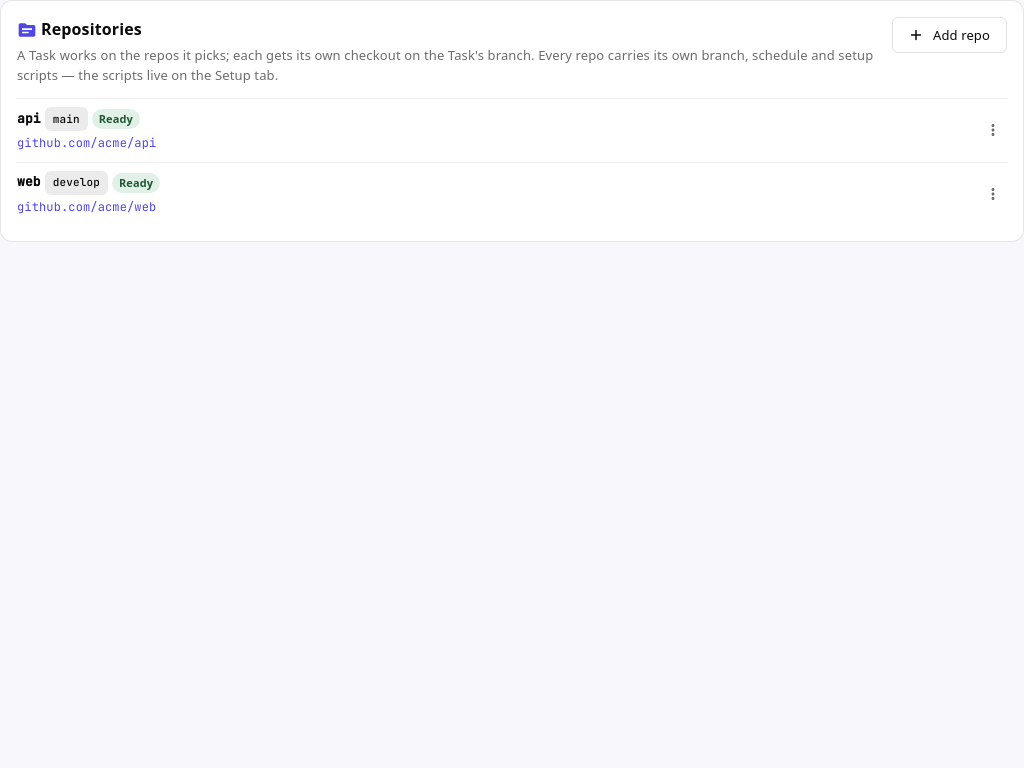
Test: ProjectReposCard › removes a repo after confirming
Click the button named "Actions for web" at [993, 194], box [979,180,1007,208]
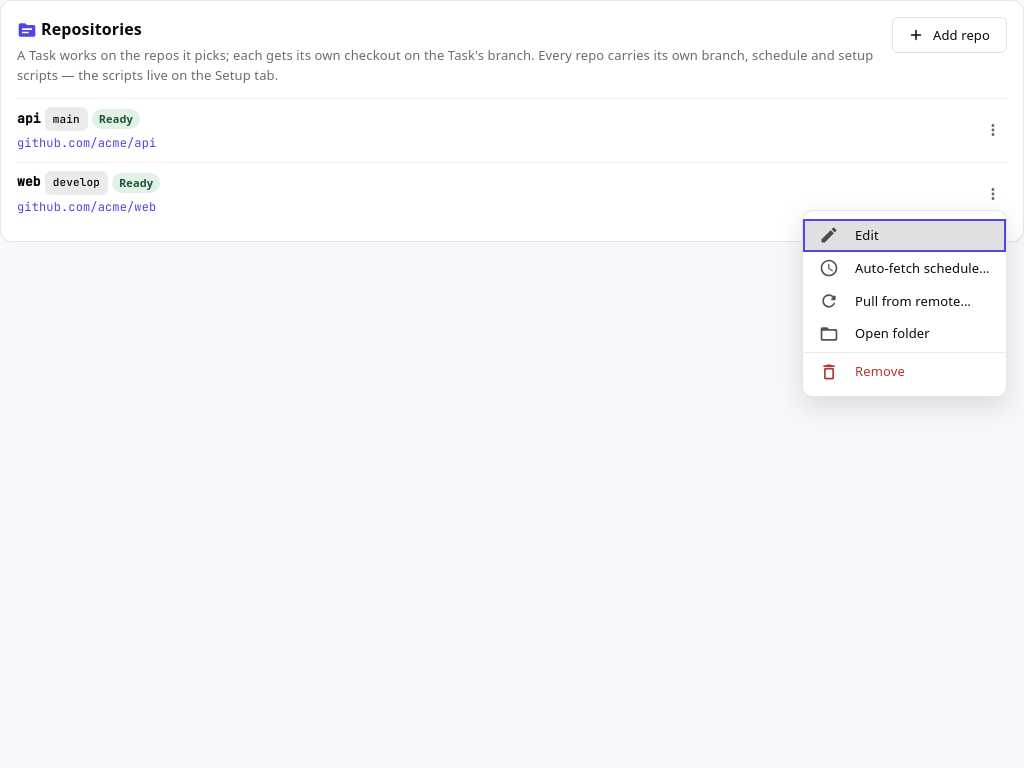
Click the menu item "Remove" at [862, 372], box [819,362,905,382]
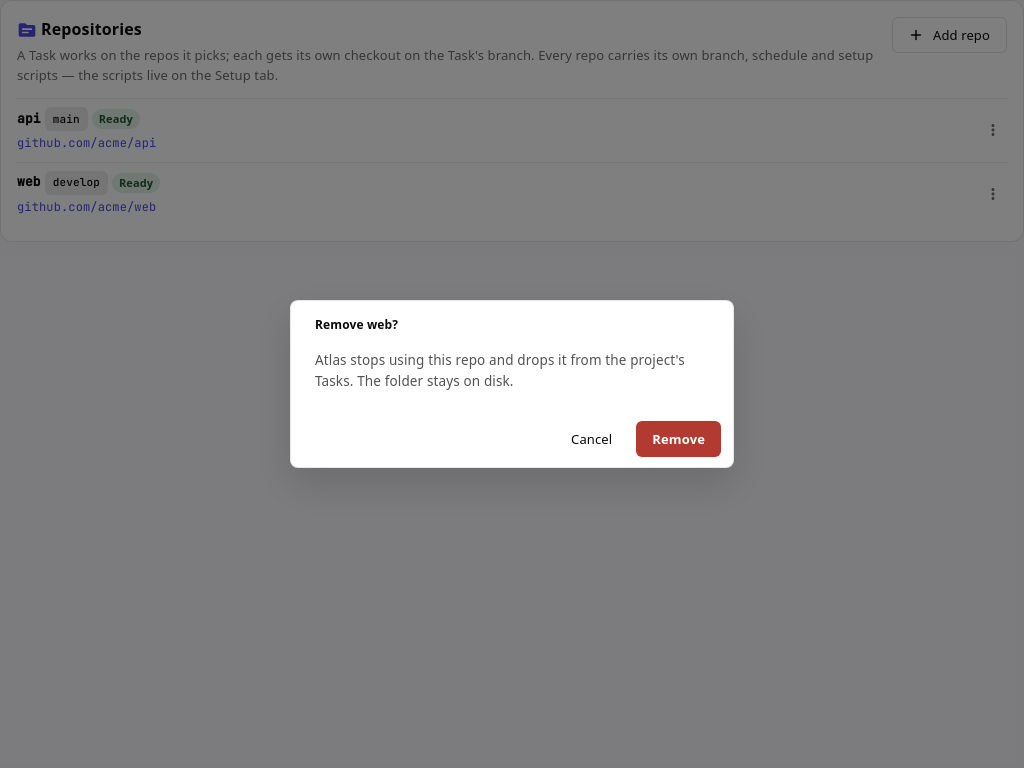
Check: the menu is gone
Check: the heading "Remove web?" is shown, box [315,316,398,333]
Click the button "Remove" at [679, 439], box [636,421,721,457]
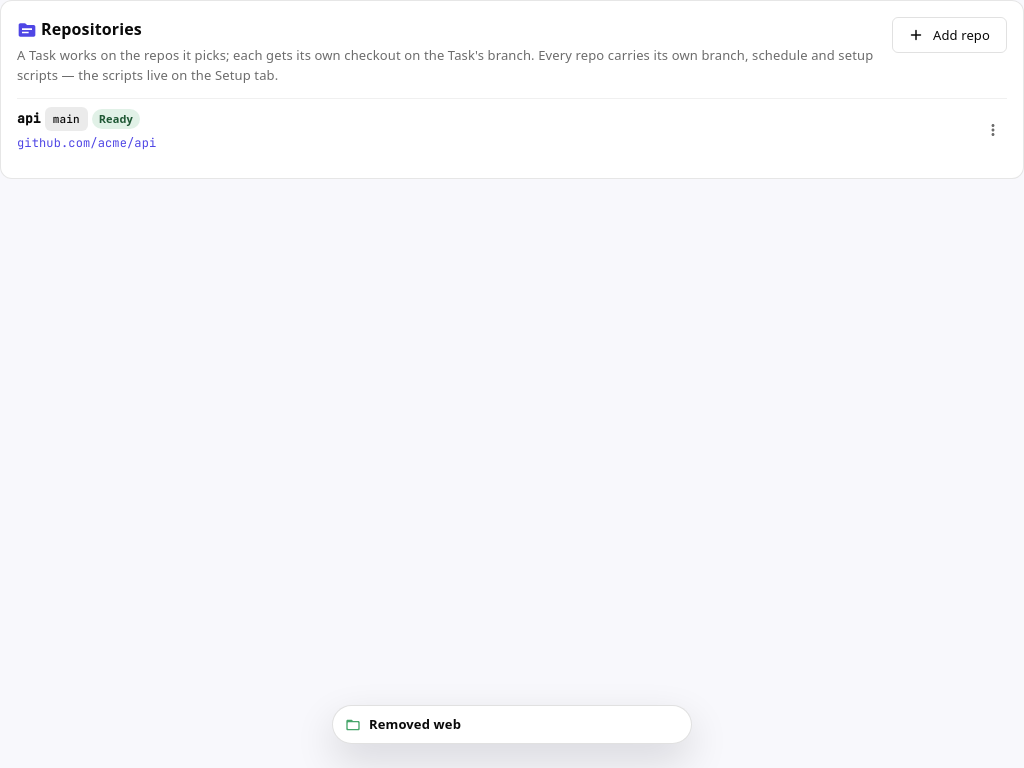
Check: the element with test id "repo-row-web" is gone
